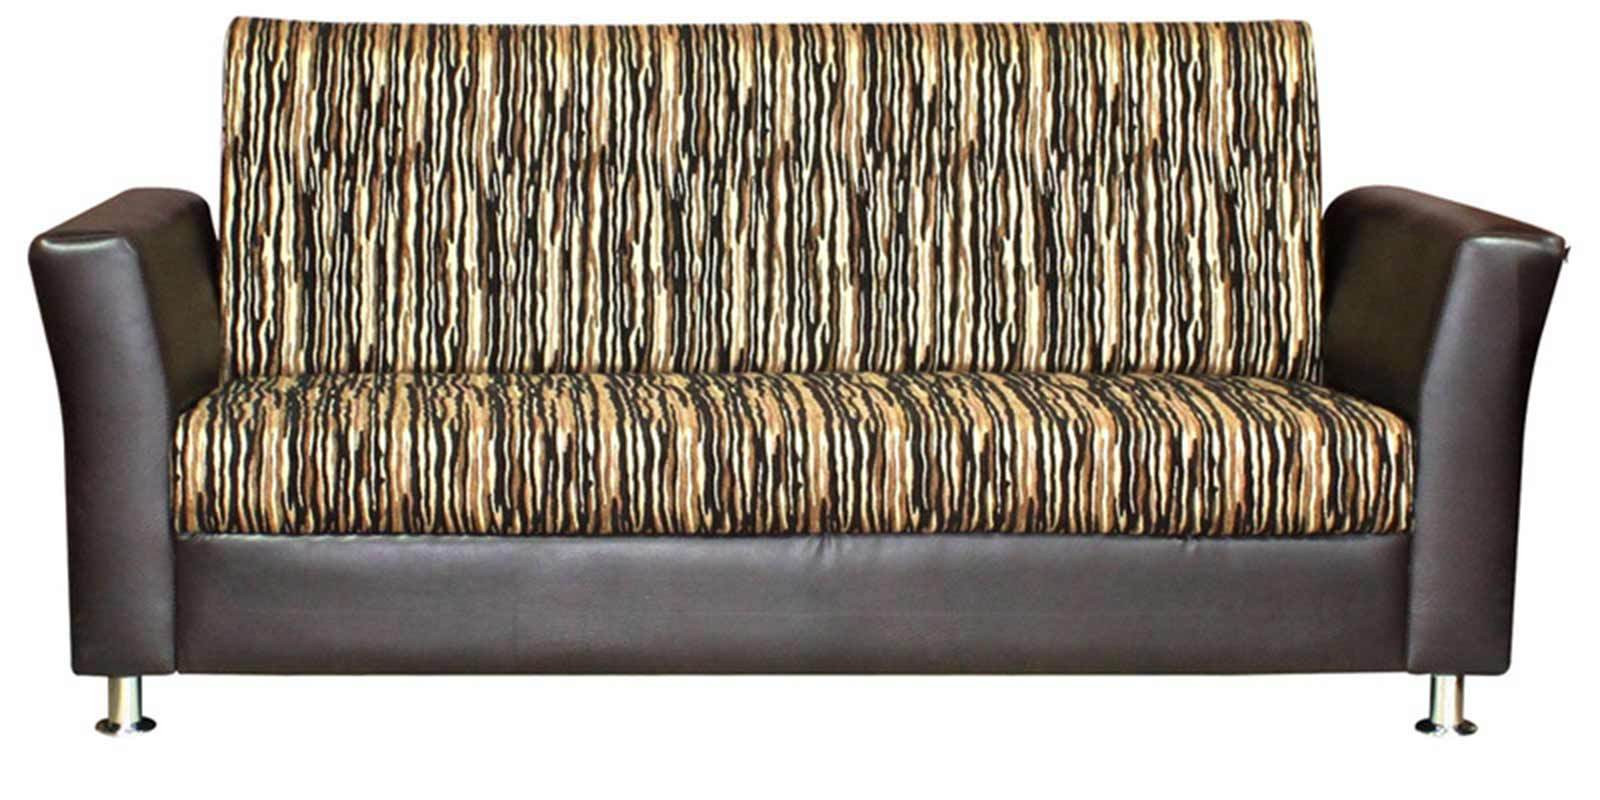Eartigo Three Seater Sofa in Brown Colour by Crystal Furnitech: (32, 6, 1549, 772)
